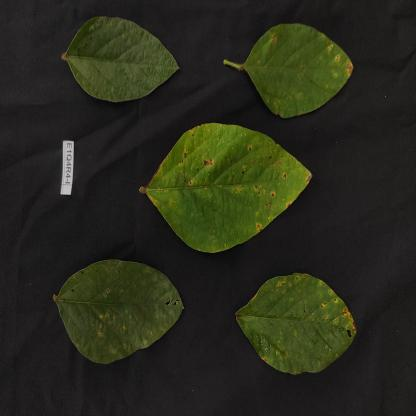label: (58, 134, 84, 216)
leaflets: (137, 122, 308, 264), (226, 258, 366, 381), (40, 251, 189, 355), (57, 3, 192, 100), (238, 10, 355, 121)
